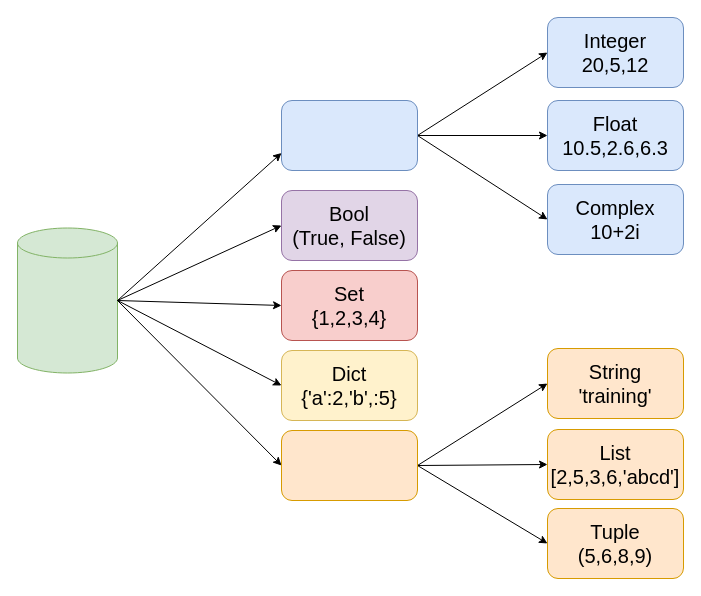
This 701x596 diagram has some shape labels left out. Each missing label, with the box of its shape:
Numeric: (280, 100, 418, 170)
Python Data Types: (16, 227, 118, 373)
Sequential: (280, 430, 418, 500)
